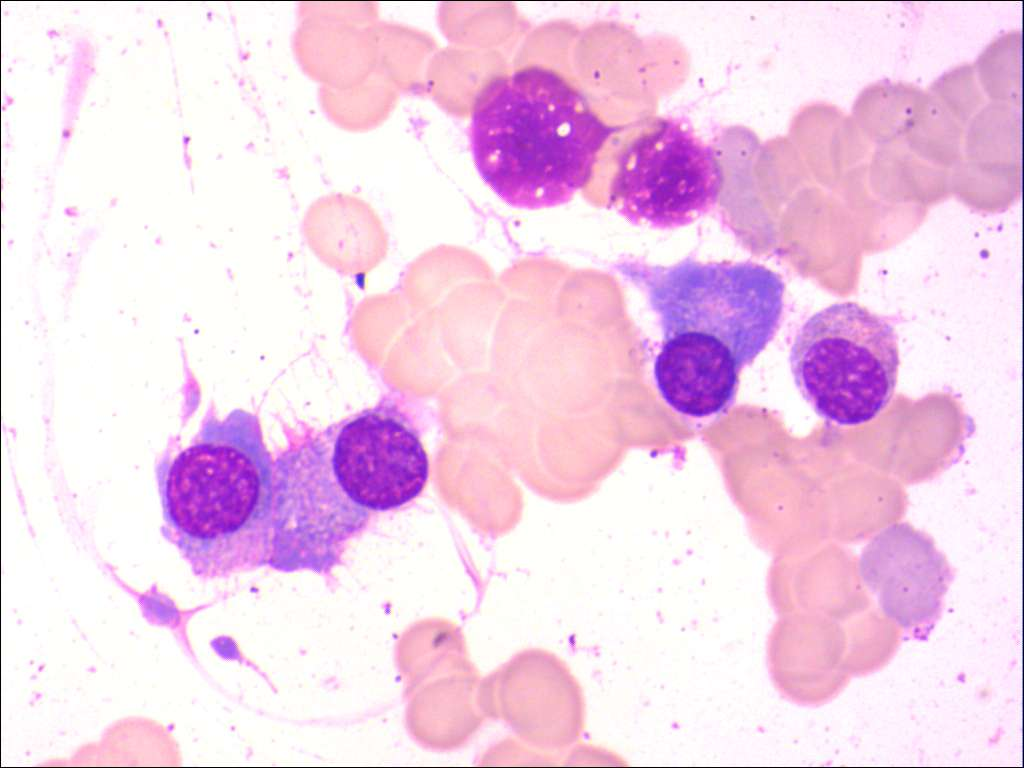3: (786, 298, 903, 430)
51: (270, 388, 442, 581), (603, 254, 793, 426), (151, 404, 279, 583)
x: (458, 62, 614, 214), (605, 110, 727, 234)
